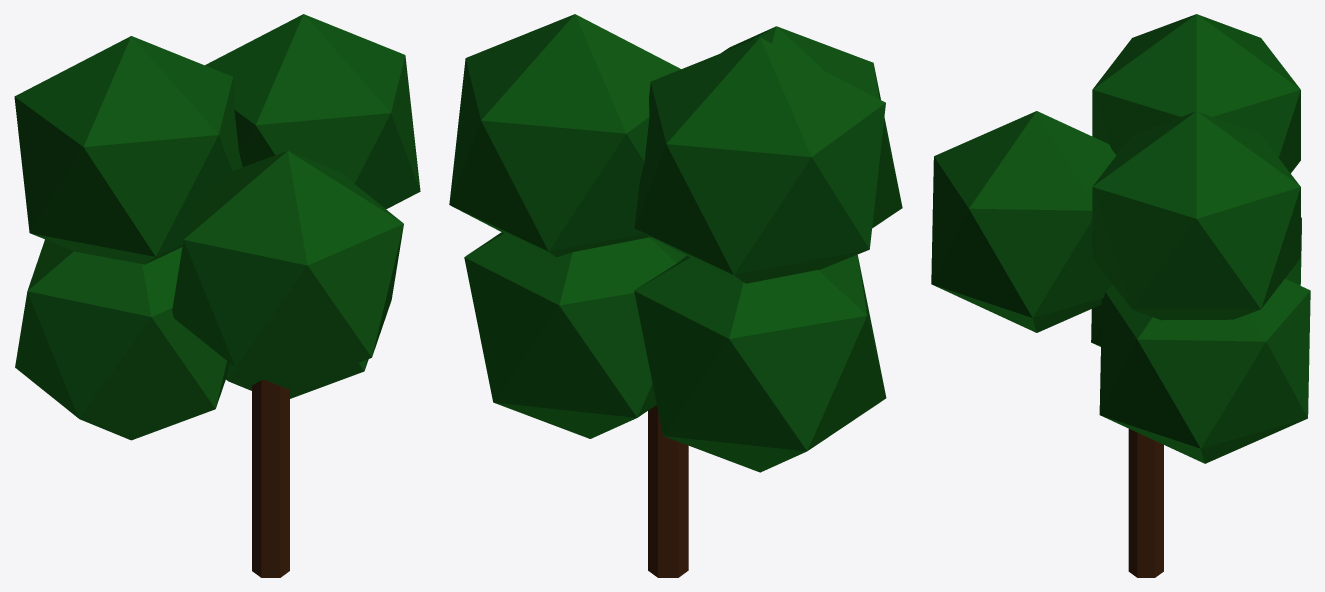
Rendered from Plant3.fbx.
The picture shows the model from 3 angles, left to right: view 1: azimuth 30°, elevation 25°; view 2: azimuth 150°, elevation 25°; view 3: azimuth 270°, elevation 25°; orthographic projection. The views are drawn at different scales.
Parts seen in each view (by area): view 1: Plant3; view 2: Plant3; view 3: Plant3.
Part boxes in pixels (x1=…): Plant3: x1=14, y1=14, x2=420, y2=577; Plant3: x1=449, y1=14, x2=902, y2=577; Plant3: x1=931, y1=14, x2=1310, y2=577.
Bounding box in the file's own units: 57.66 × 79.58 × 54.04.
